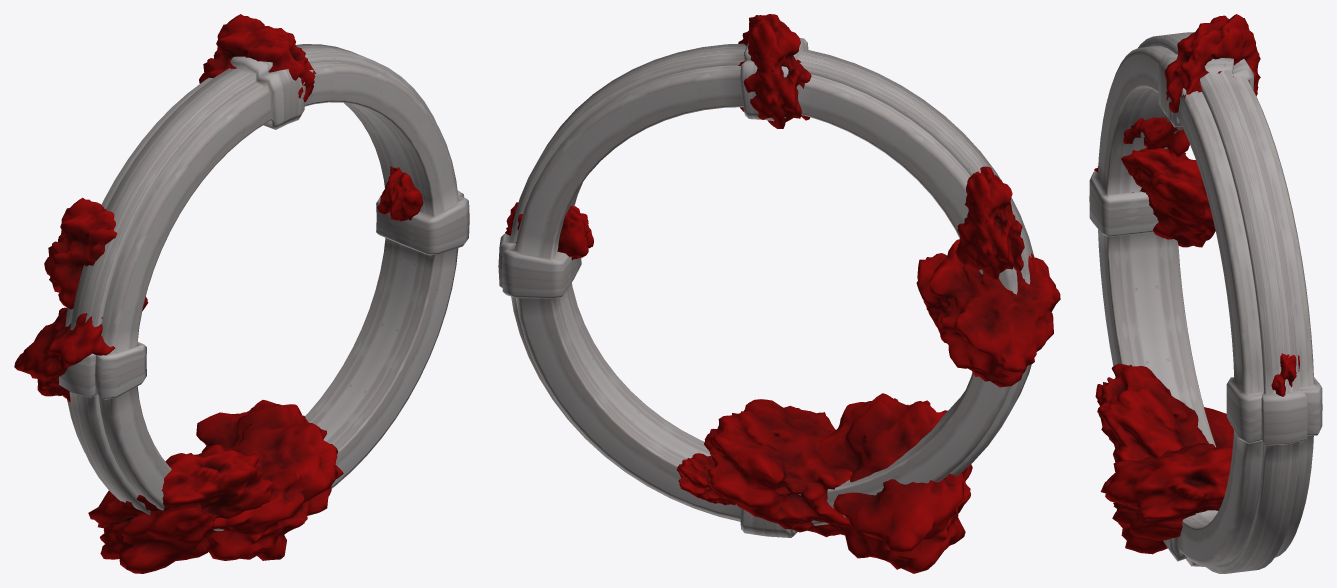
The model's file is GSRuinedRing (2).fbx.
3 views of the same model, side by side, from view 1: azimuth 30°, elevation 25°; view 2: azimuth 150°, elevation 25°; view 3: azimuth 270°, elevation 25° (orthographic). The views are drawn at different scales.
Visible parts, largest first — view 1: GSRuinedRing (2), GoldNuggetNestedInRings (×6); view 2: GSRuinedRing (2), GoldNuggetNestedInRings (×7); view 3: GSRuinedRing (2), GoldNuggetNestedInRings (×6).
Boxes of the visible parts, left/top/right/bottom form: GSRuinedRing (2): left=59, top=44, right=469, bottom=530; GoldNuggetNestedInRings (×6): left=14, top=14, right=423, bottom=573; GSRuinedRing (2): left=498, top=38, right=1034, bottom=537; GoldNuggetNestedInRings (×7): left=505, top=14, right=1060, bottom=573; GSRuinedRing (2): left=1089, top=32, right=1322, bottom=573; GoldNuggetNestedInRings (×6): left=1094, top=14, right=1299, bottom=554.
Size of the model in its own units: 17.17 by 17.67 by 6.8.
2 materials, 1 textured.
